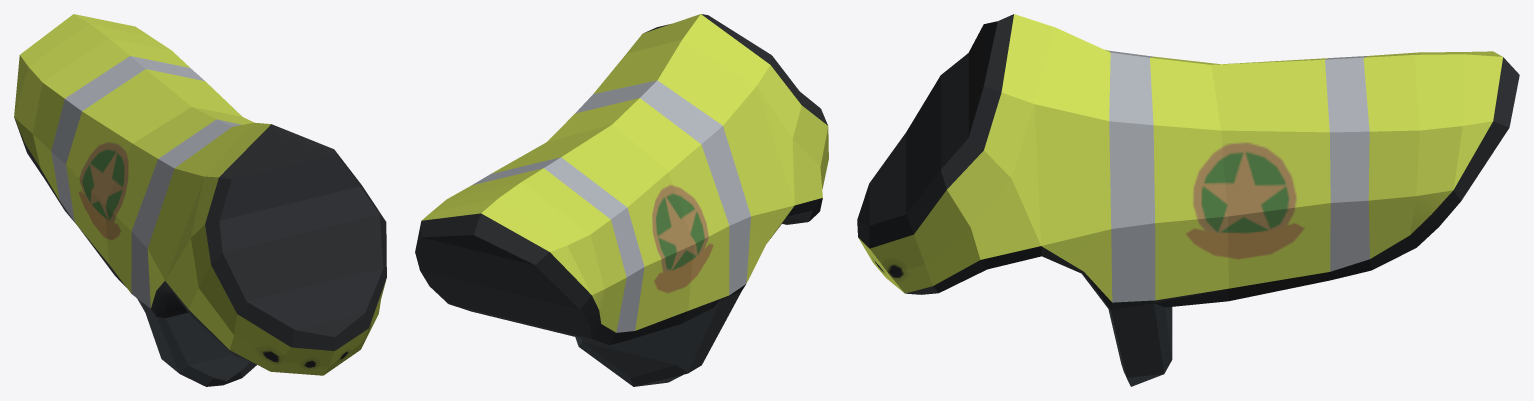
File: SK_Chr_Attach_Vest_HighVis_Large_01.fbx
The picture shows the model from 3 angles, left to right: view 1: azimuth 30°, elevation 25°; view 2: azimuth 150°, elevation 25°; view 3: azimuth 270°, elevation 25°; orthographic projection. The views are drawn at different scales.
Visible parts, largest first — view 1: SK_Chr_Attach_Vest_HighVis_Large_01; view 2: SK_Chr_Attach_Vest_HighVis_Large_01; view 3: SK_Chr_Attach_Vest_HighVis_Large_01.
Boxes of the visible parts, x1,y1,x2,y2 form: SK_Chr_Attach_Vest_HighVis_Large_01: (14, 14, 386, 386); SK_Chr_Attach_Vest_HighVis_Large_01: (415, 14, 828, 386); SK_Chr_Attach_Vest_HighVis_Large_01: (857, 14, 1519, 386).
Size of the model in its own units: 32.37 by 47.58 by 78.01.
